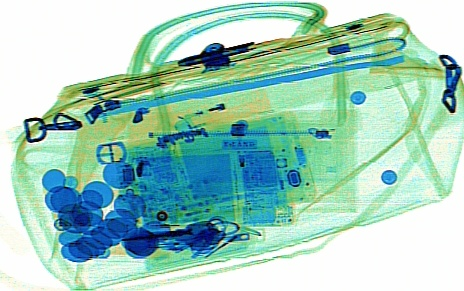lighter: (172, 88, 273, 134)
